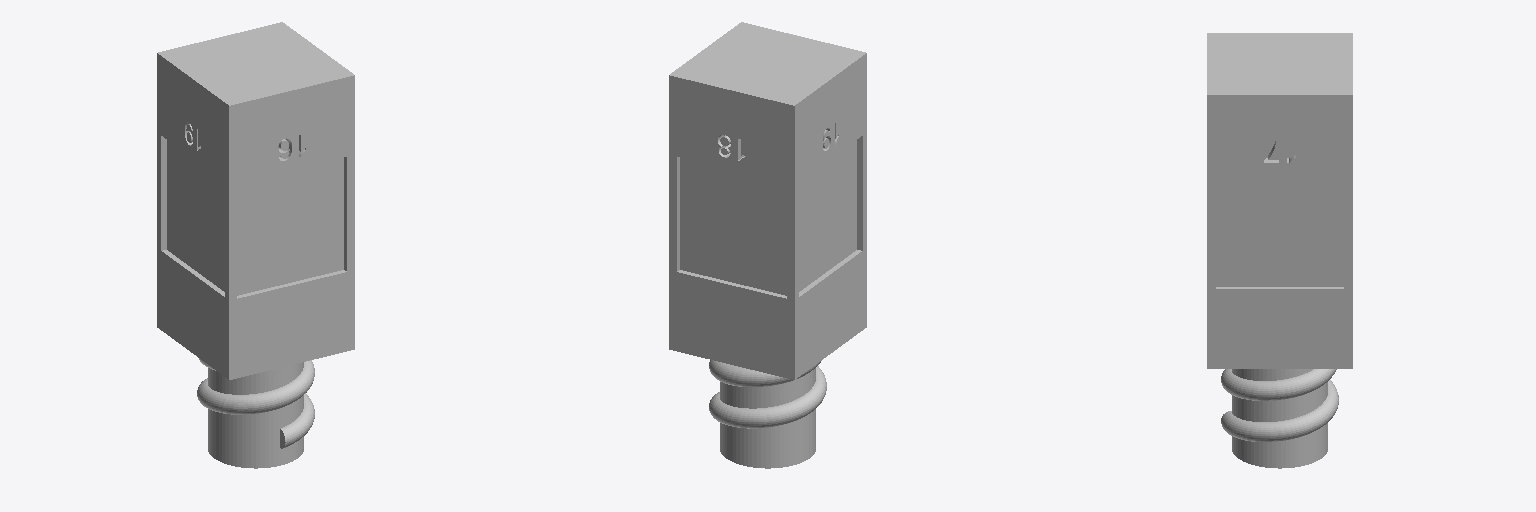
The model's file is square_table_leg3.obj.
3 views of the same model, side by side, from view 1: azimuth 30°, elevation 25°; view 2: azimuth 150°, elevation 25°; view 3: azimuth 270°, elevation 25° (orthographic).
Visible parts, largest first — view 1: square_leg3, square_leg3.001, square_leg3.004; view 2: square_leg3, square_leg3.003, square_leg3.004; view 3: square_leg3, square_leg3.002.
Boxes of the visible parts, <box> form: square_leg3: <box>157,22,354,468</box>; square_leg3.001: <box>237,157,346,298</box>; square_leg3.004: <box>161,136,224,296</box>; square_leg3: <box>669,22,866,468</box>; square_leg3.003: <box>677,157,786,298</box>; square_leg3.004: <box>799,136,862,296</box>; square_leg3: <box>1207,33,1352,468</box>; square_leg3.002: <box>1216,174,1343,288</box>.
Size of the model in its own units: 0.03 by 0.0875 by 0.03.